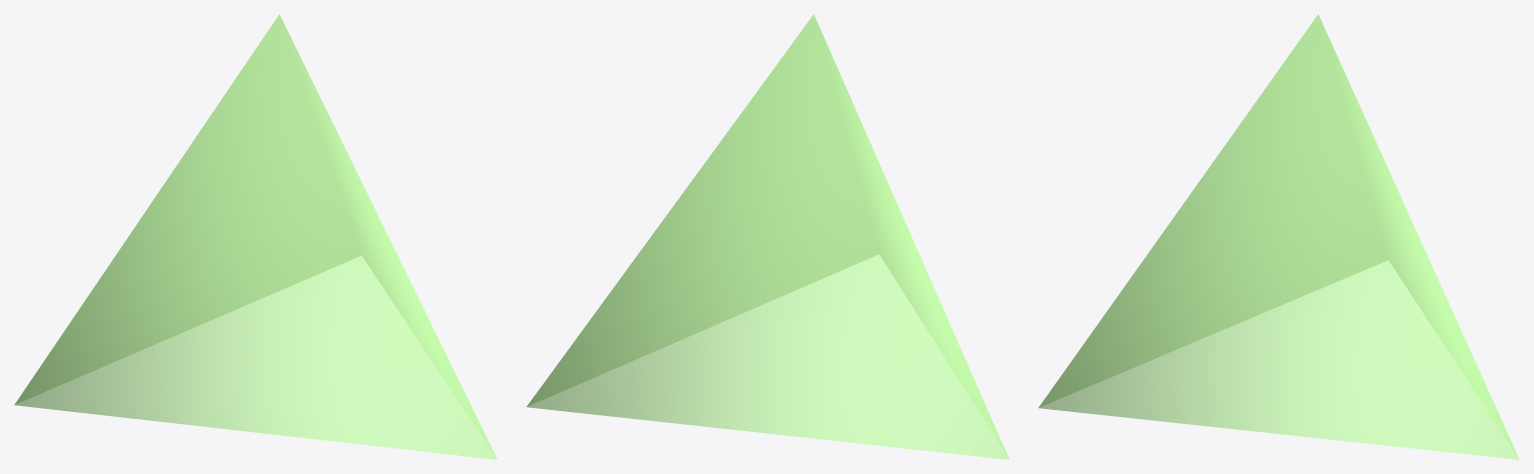
The picture shows the model from 3 angles, left to right: view 1: azimuth 30°, elevation 25°; view 2: azimuth 150°, elevation 25°; view 3: azimuth 270°, elevation 25°; orthographic projection.
Bounding box in the file's own units: 5.4 × 4.5 × 5.5.
